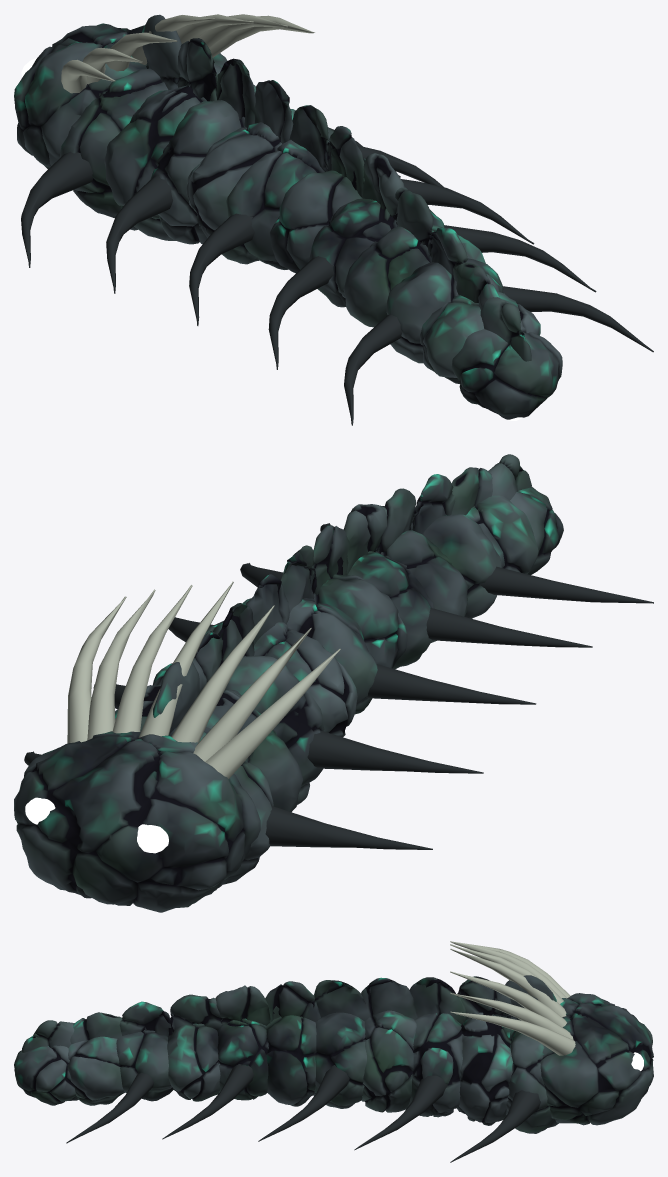
Rendered from ancient_leviathan.glb.
3 views of the same model, one above another, from view 1: azimuth 30°, elevation 25°; view 2: azimuth 150°, elevation 25°; view 3: azimuth 270°, elevation 25° (orthographic). The views are drawn at different scales.
Parts seen in each view (by area): view 1: ancient_leviathan.001; view 2: ancient_leviathan.001; view 3: ancient_leviathan.001.
Part boxes in pixels (x1=…): ancient_leviathan.001: x1=14, y1=14, x2=653, y2=425; ancient_leviathan.001: x1=14, y1=454, x2=653, y2=912; ancient_leviathan.001: x1=14, y1=941, x2=653, y2=1162.
Size of the model in its own units: 4.89 by 3.08 by 10.
